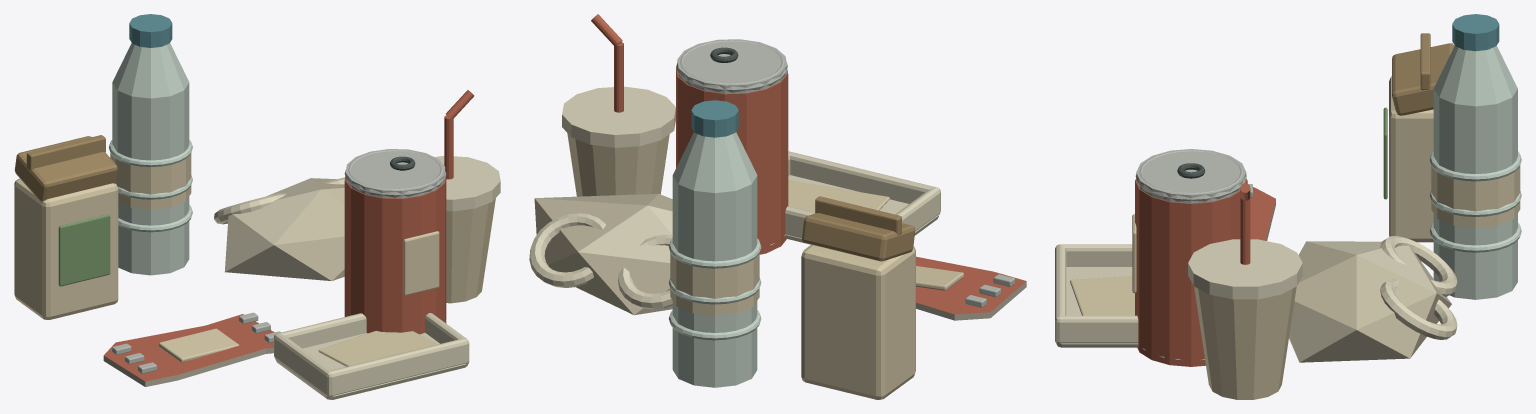
File: Litter_Cluster_2.glb
3 renders of one model, left to right at view 1: azimuth 30°, elevation 25°; view 2: azimuth 150°, elevation 25°; view 3: azimuth 270°, elevation 25°, orthographic. The views are drawn at different scales.
Parts seen in each view (by area): view 1: Litter; view 2: Litter; view 3: Litter.
Part boxes in pixels (left/top/right/bottom): Litter: left=14, top=14, right=500, bottom=399; Litter: left=529, top=14, right=1026, bottom=399; Litter: left=1055, top=14, right=1521, bottom=399.
Size of the model in its own units: 0.867 by 0.507 by 0.8308.
